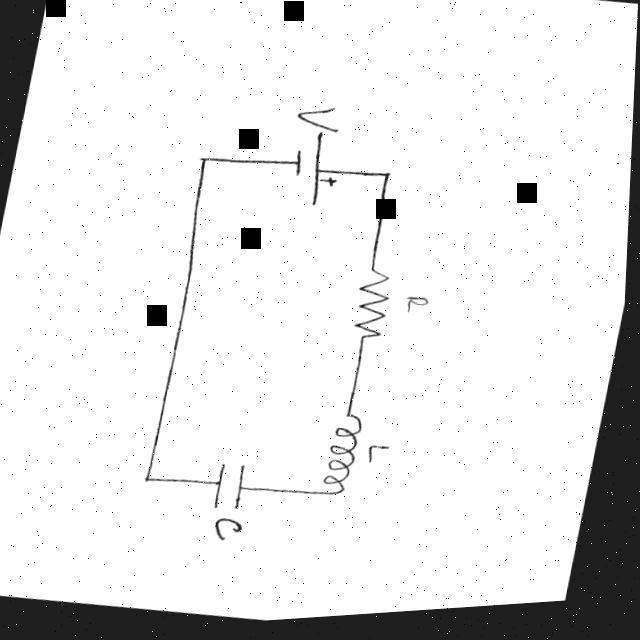capacitor: (212, 463, 255, 516)
inductor: (323, 417, 369, 505)
junction: (143, 476, 159, 488), (382, 176, 396, 187), (200, 159, 211, 167)
resistor: (350, 271, 399, 347)
source: (286, 134, 348, 213)
text: (294, 107, 345, 139), (215, 519, 252, 546), (368, 448, 396, 473), (405, 300, 434, 322)
